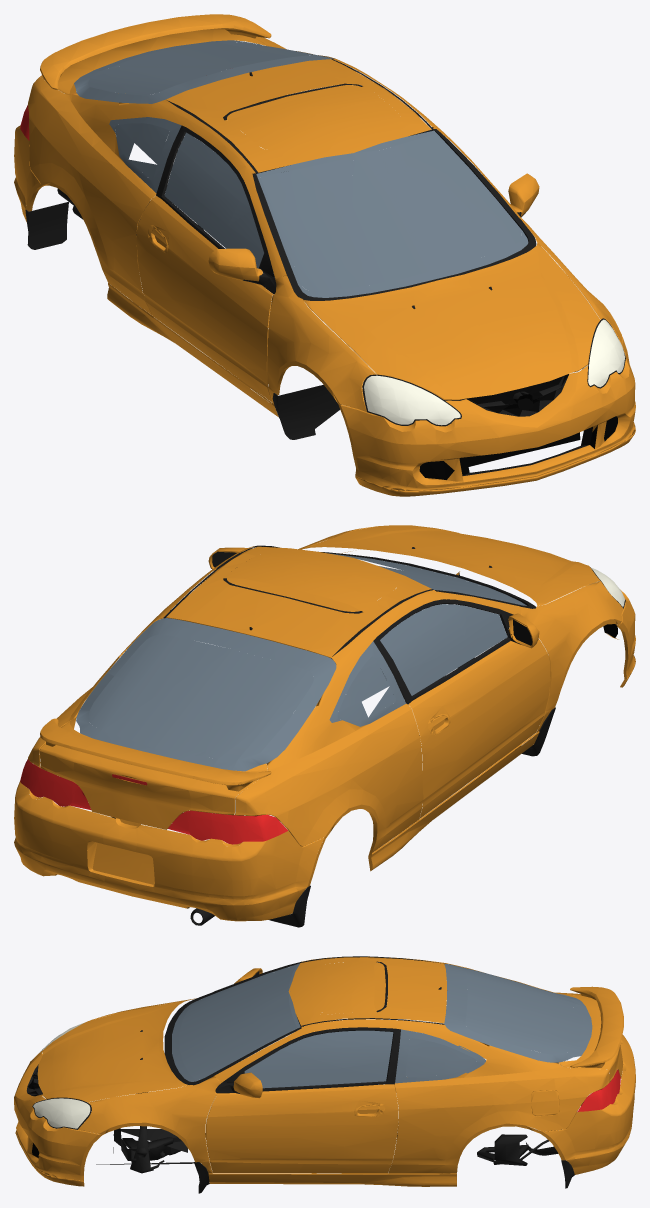
File: protoCompact.glb
The picture shows the model from 3 angles, top to bottom: view 1: azimuth 30°, elevation 25°; view 2: azimuth 150°, elevation 25°; view 3: azimuth 270°, elevation 25°; orthographic projection. The views are drawn at different scales.
Parts seen in each view (by area): view 1: Body; view 2: Body; view 3: Body.
Boxes of the visible parts, bbox=[...] form: Body: bbox=[14, 14, 635, 496]; Body: bbox=[14, 525, 635, 927]; Body: bbox=[14, 956, 635, 1193].
Bounding box in the file's own units: 1.93 × 1.28 × 4.31.
